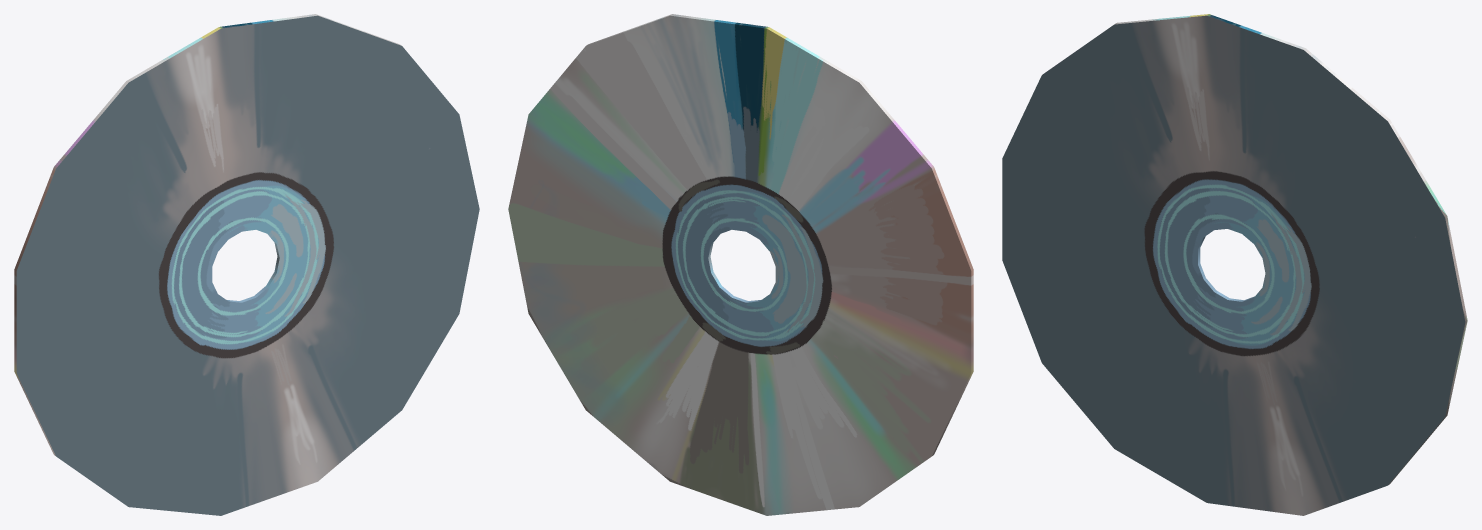
3 renders of one model, left to right at view 1: azimuth 30°, elevation 25°; view 2: azimuth 150°, elevation 25°; view 3: azimuth 330°, elevation 25°, orthographic.
Parts seen in each view (by area): view 1: g CD_Geo:CDGeo; view 2: g CD_Geo:CDGeo; view 3: g CD_Geo:CDGeo.
Boxes of the visible parts, bbox=[...] form: g CD_Geo:CDGeo: bbox=[14, 14, 479, 515]; g CD_Geo:CDGeo: bbox=[508, 14, 973, 515]; g CD_Geo:CDGeo: bbox=[1002, 14, 1467, 515].
Size of the model in its own units: 15.97 by 16.05 by 0.1354.
